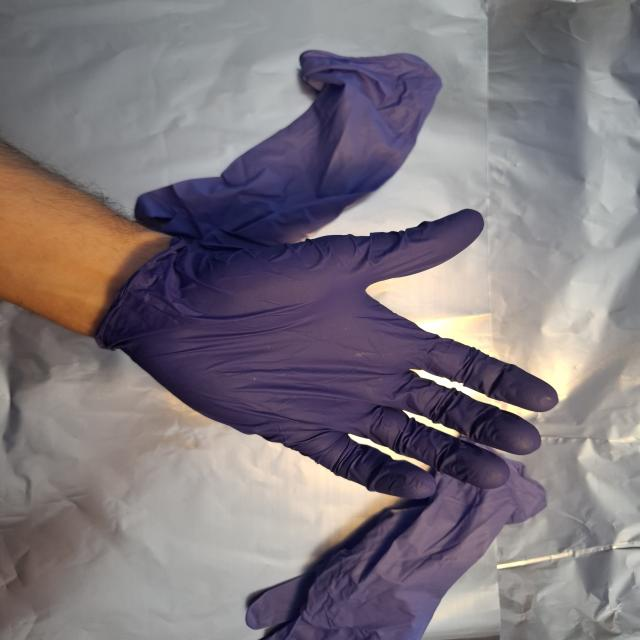glove_on: (100, 206, 565, 503)
